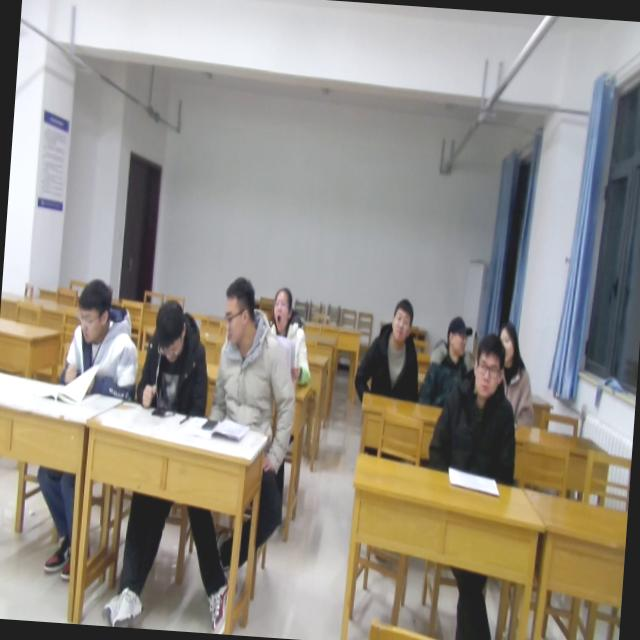down: (70, 271, 115, 346), (150, 293, 190, 364)
lookup: (468, 330, 506, 406), (386, 294, 416, 348), (492, 314, 523, 364), (267, 282, 295, 336)
sit: (423, 328, 528, 486), (206, 272, 304, 432), (56, 276, 144, 402), (133, 298, 214, 416), (352, 293, 425, 406), (260, 283, 319, 386), (416, 309, 478, 406), (490, 314, 540, 426)
